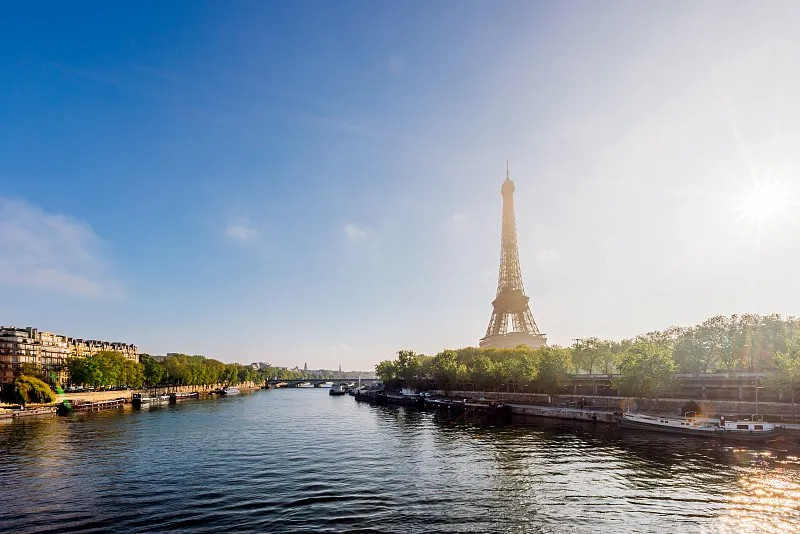Eiffel: (479, 159, 548, 351)
